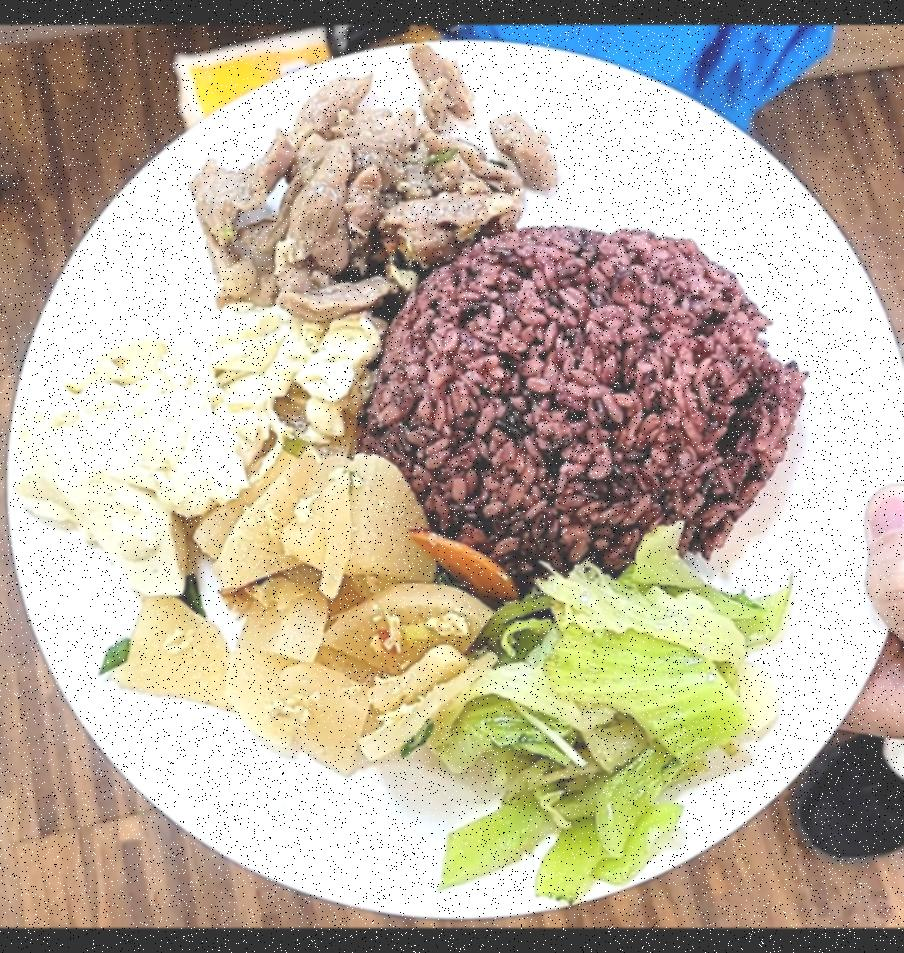plate: (6, 24, 904, 920)
pork with scrambled eggs: (190, 34, 546, 304)
purple rice: (388, 220, 804, 582)
side dish: (426, 559, 792, 890), (115, 445, 471, 767), (14, 320, 369, 589)
